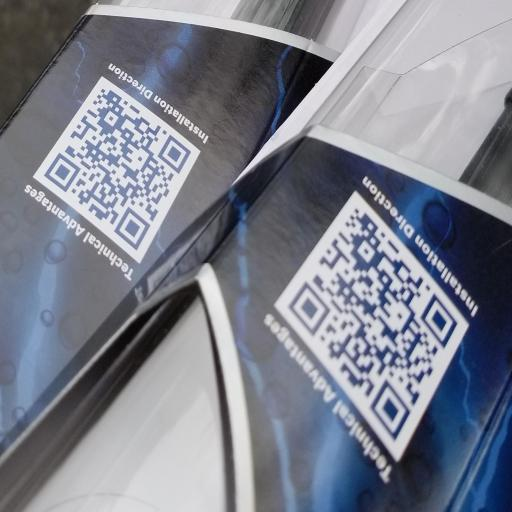QR_CODE: (280, 188, 466, 446), (34, 73, 197, 259)
